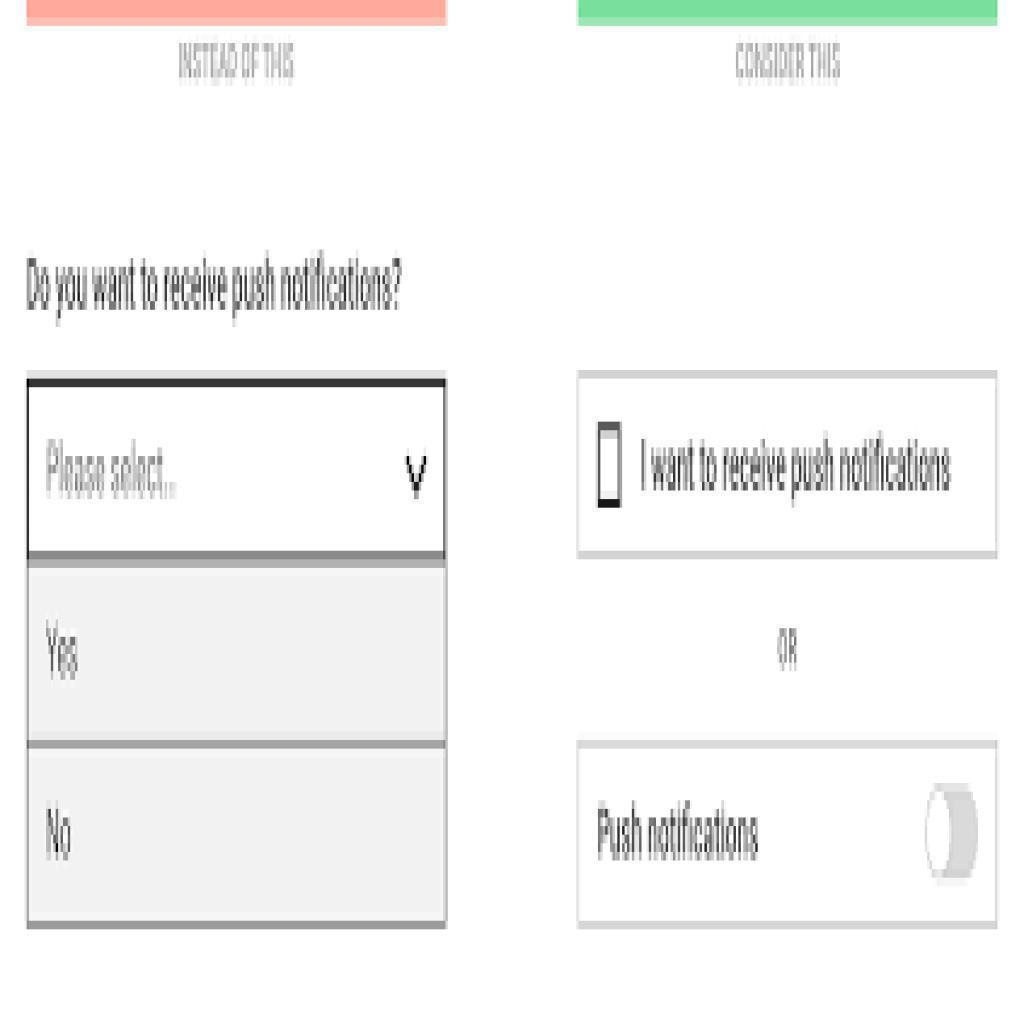checkbox: (595, 423, 622, 509)
dropdown: (25, 379, 447, 559)
label: (637, 429, 959, 505), (590, 793, 772, 870)
switch: (928, 781, 981, 881)
